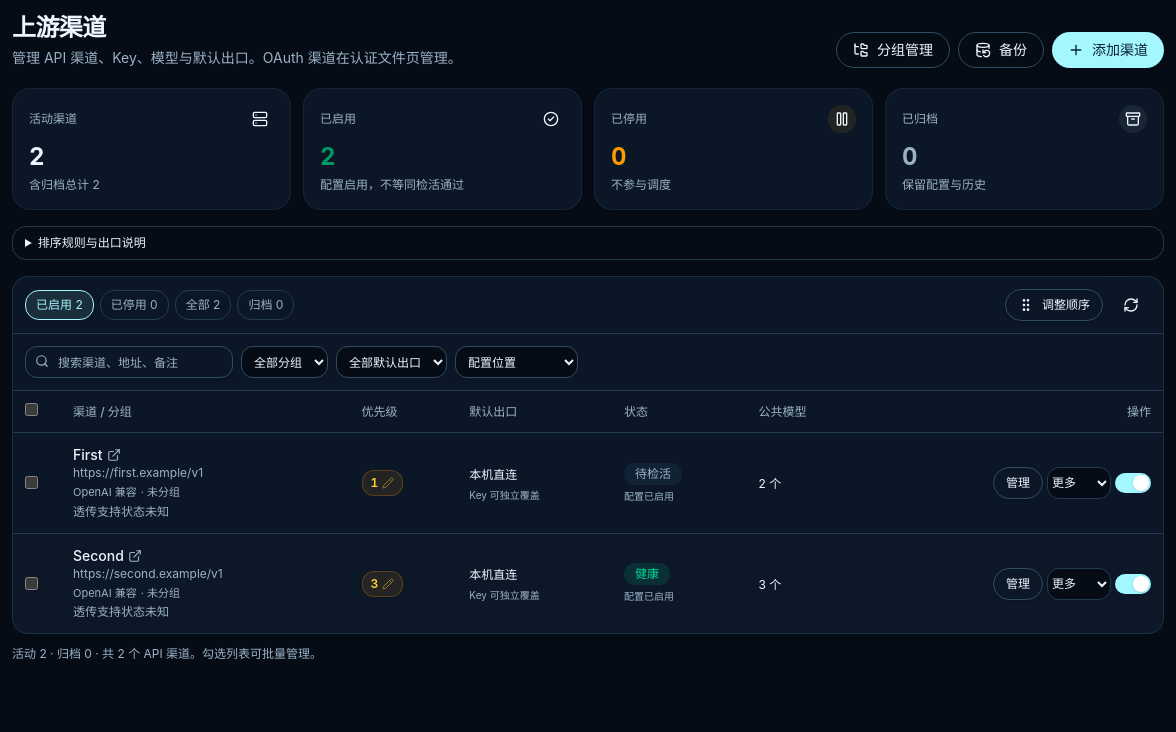
Scenario: channel management workflow › keeps hidden selections and uses indeterminate select-all
The width and height of the screenshot is (1176, 732).
Click the checkbox named "选择 First".
click(32, 483)  # box x1=25 y1=476 x2=38 y2=489
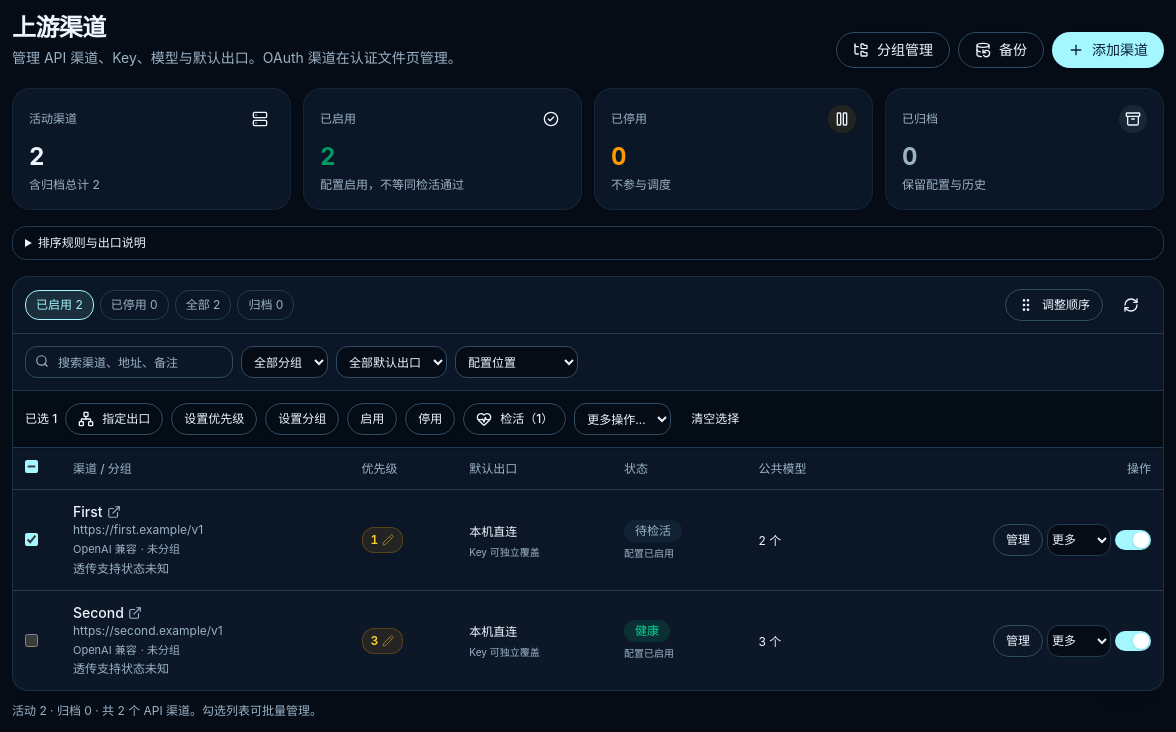
Type "Second" into the field labelled "搜索渠道".
click(129, 362); type("Second")  # box x1=25 y1=346 x2=233 y2=378
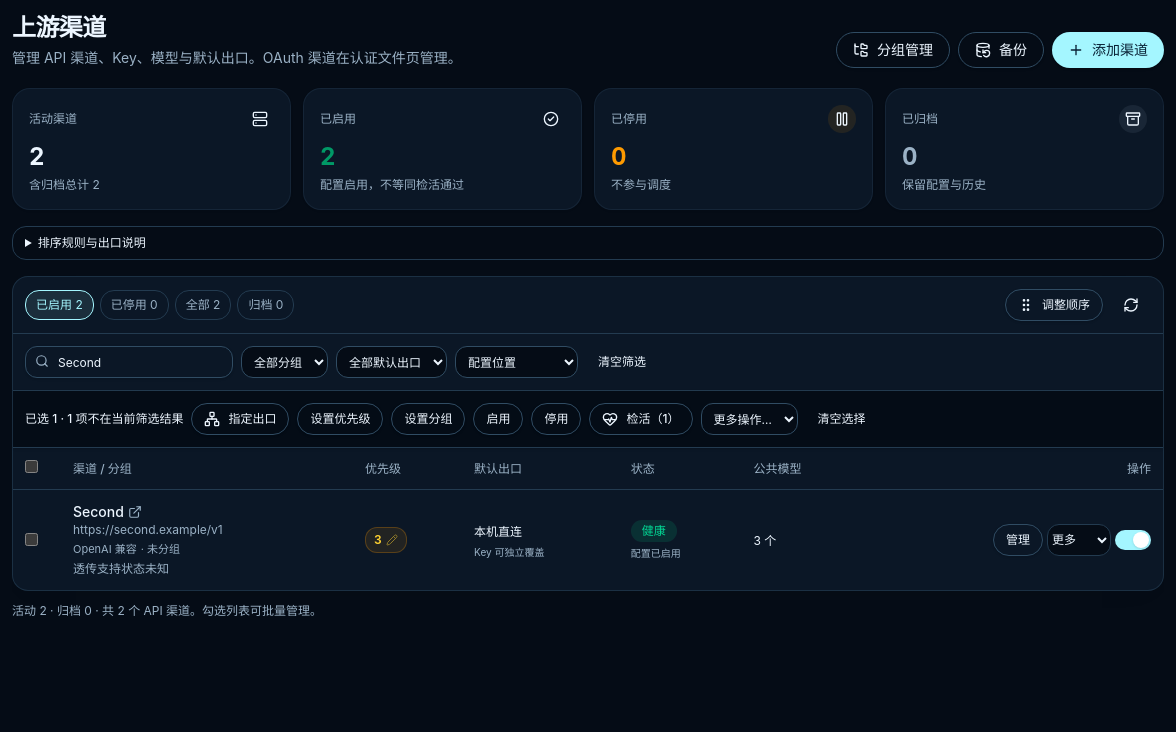
Result: the text "已选 1 · 1 项不在当前筛选结果" is shown at x1=25 y1=411 x2=183 y2=427
Click the checkbox named "选择当前筛选全部渠道".
click(32, 466)  # box x1=25 y1=460 x2=38 y2=473
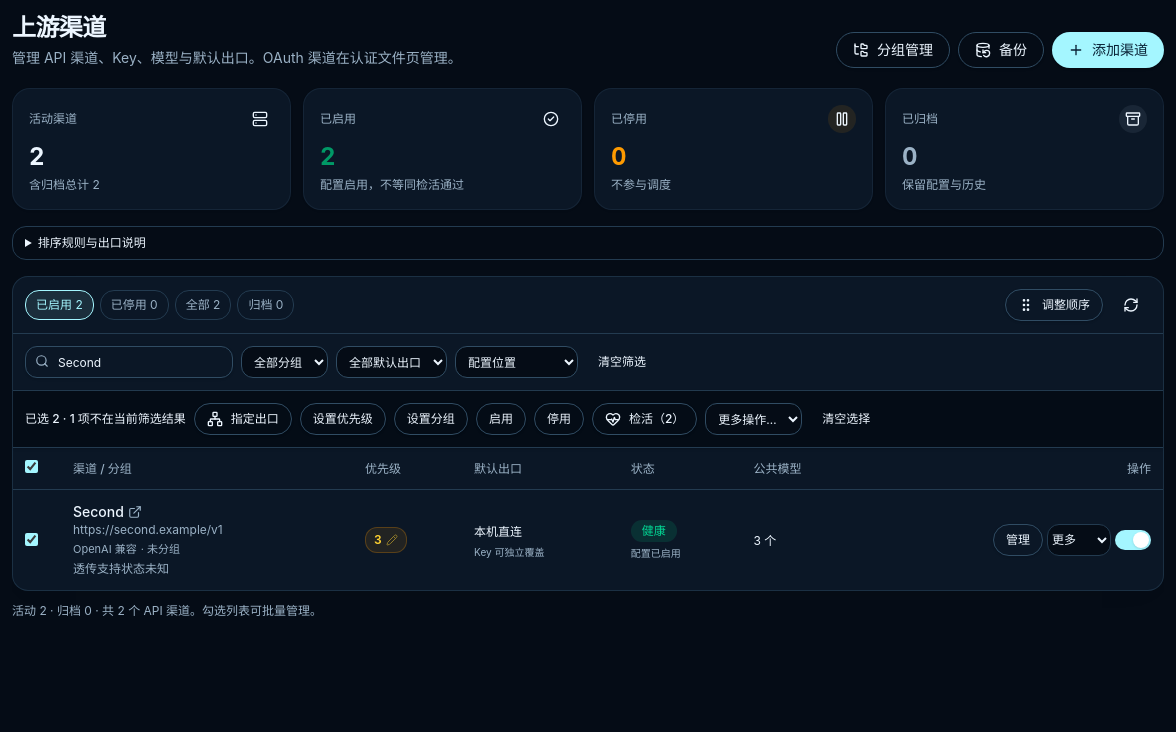
Result: the text "已选 2 · 1 项不在当前筛选结果" is shown at x1=25 y1=411 x2=186 y2=427
